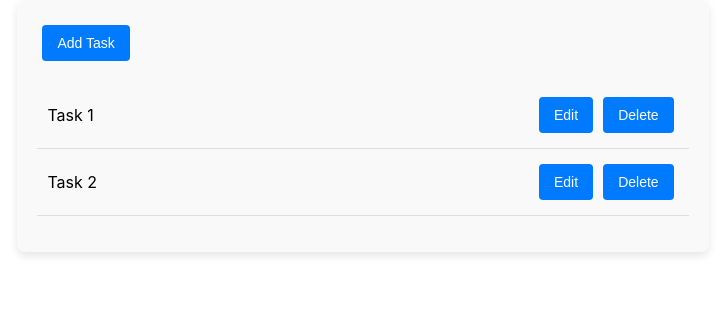
it: TaskList Component › handles errors during delete
Step 1. Click the button "Delete" in the row of "Task 1" → [638, 115], box [603,97,674,133]
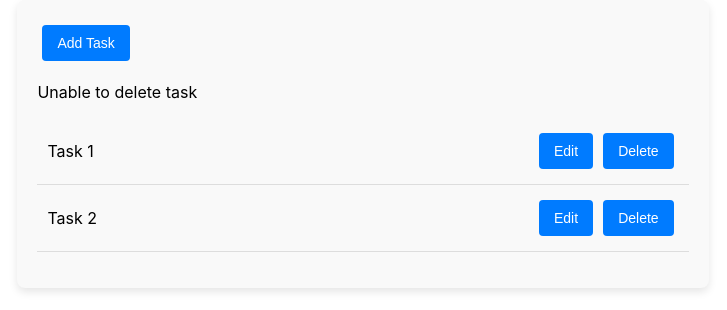
Expected: the text "Unable to delete task" is shown, [37,82,197,102]
